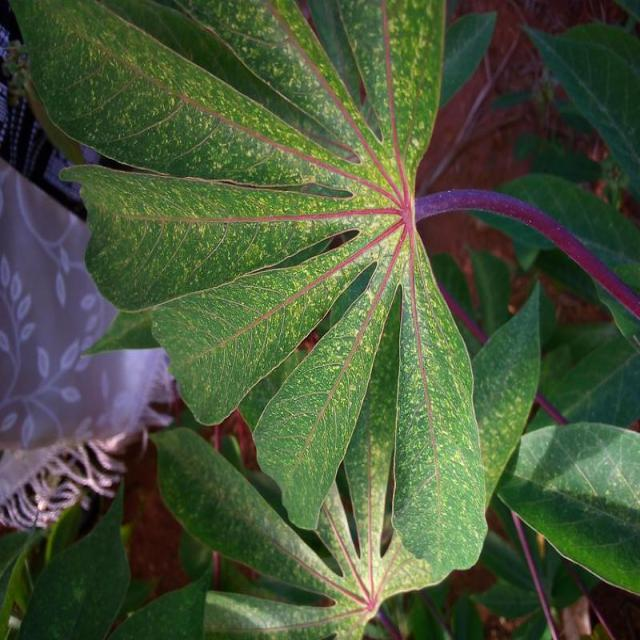cassava leaf: (5, 0, 637, 634), (496, 419, 638, 596)
